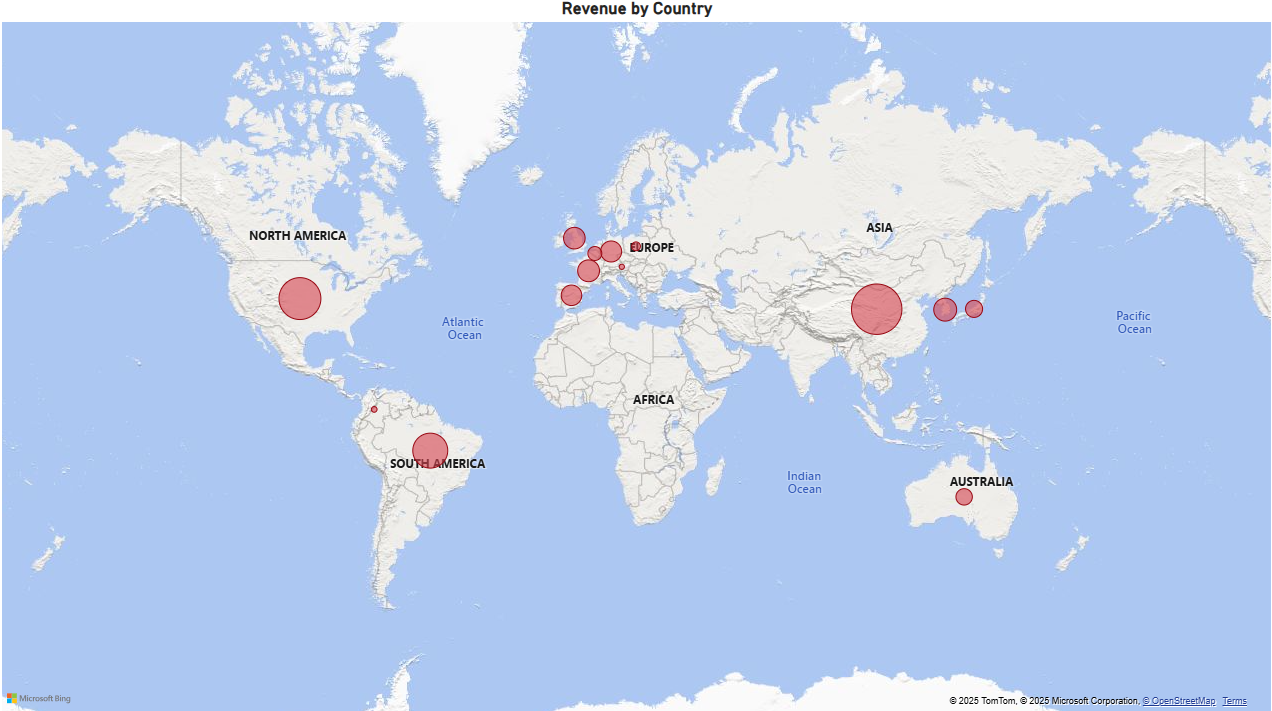

This screenshot's page, from the dashboard's own definition file:
{"tool":"powerbi","page":{"name":"Revenue by Country using a Map","canvas":[1280,720],"ordinal":3},"visuals":[{"type":"map","title":"Revenue by Country","fields":{"Category":["users.country"],"Size":["order_items.Total Revenue"]},"box":[0,0,1280,719.8],"z":0}]}

Visuals, with their boxes in screenshot pixels (x1, y1, x2, y2), scaled from the page's 1280x720 canvas onto the 1272x711 screenshot:
"Revenue by Country" map: [left=0, top=0, right=1271, bottom=710]
